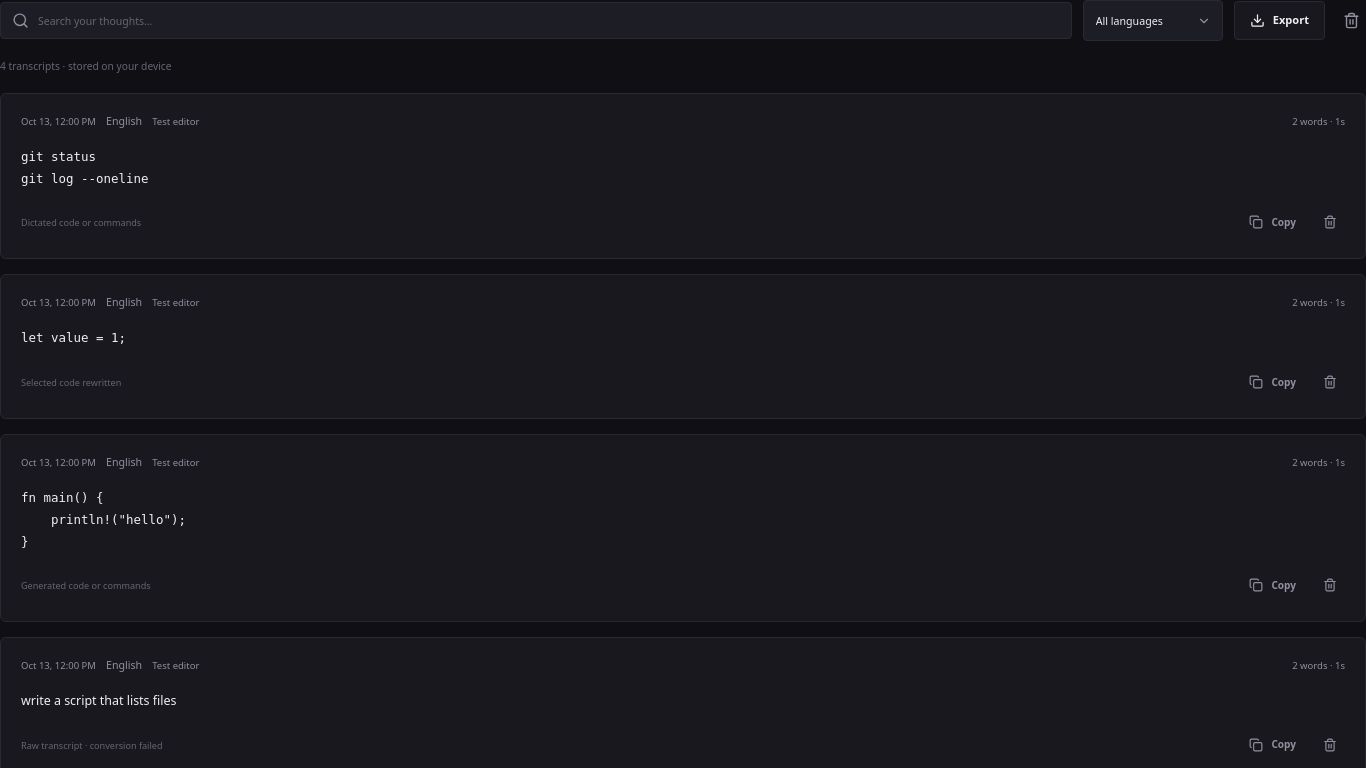
Test: Render state and filtering › labels technical history modes, preserves code whitespace and distinguishes failed raw output
expect the text "Dictated code or commands" is shown: met, box [21,216,141,229]
expect the text "Selected code rewritten" is shown: met, box [21,376,121,389]
Click the button with class "code-output" that starts with "fn main() { println!(\"hello\"); }" at (62, 498), box [21,487,1345,552]
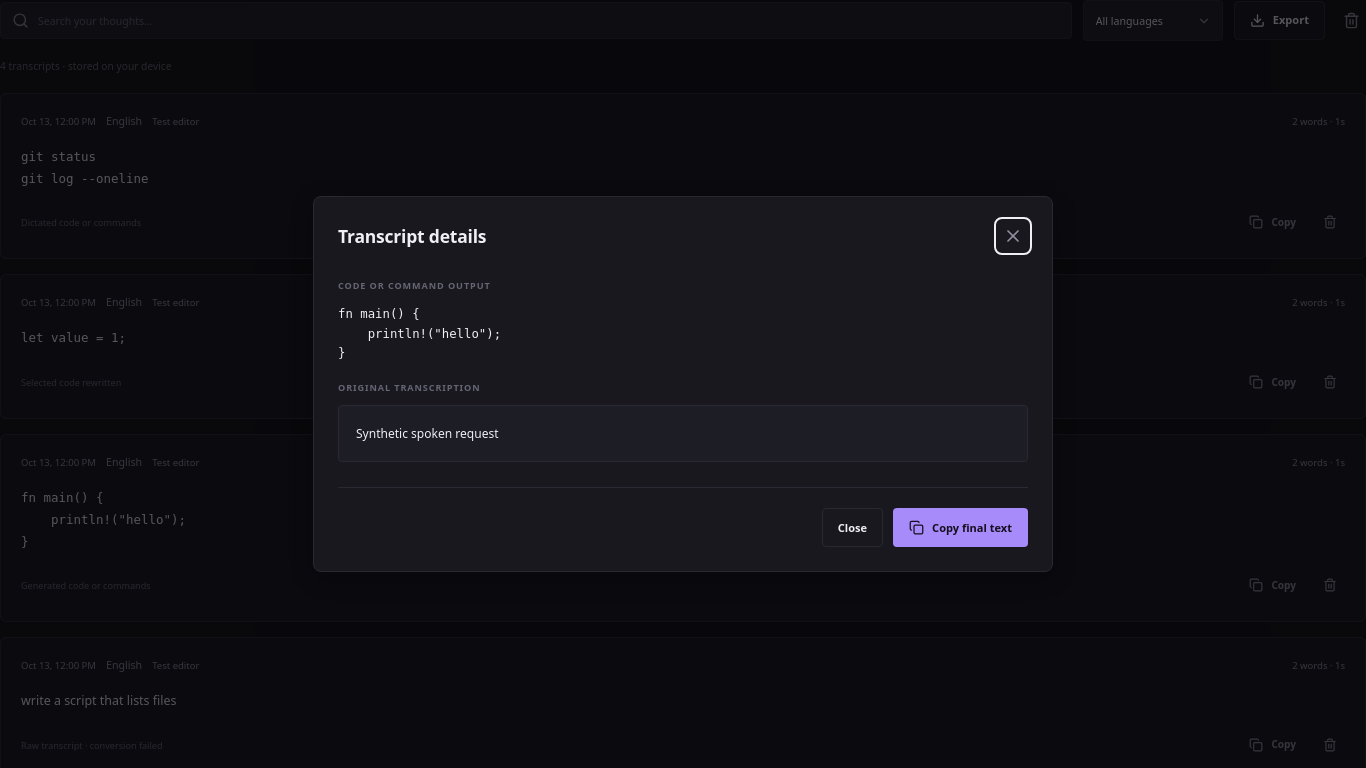
expect the text "CODE OR COMMAND OUTPUT" is shown: met, box [338,279,491,292]
Click the button "Close" at (852, 528), box [822,508,883,547]
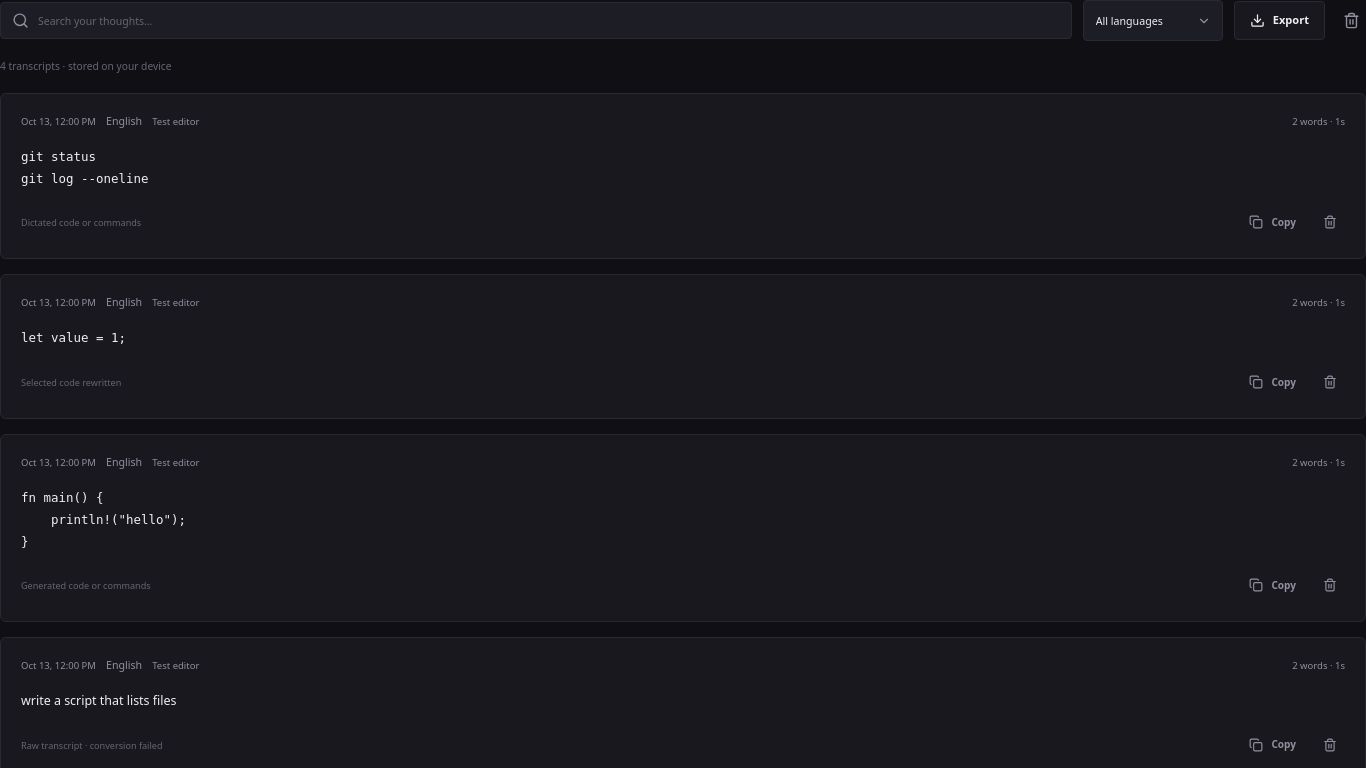
expect the text "Raw transcript · conversion failed" is shown: met, box [21,738,162,752]
Click the button with class "history-text" that starts with "write a script that lists files" at (99, 701), box [21,690,1345,712]
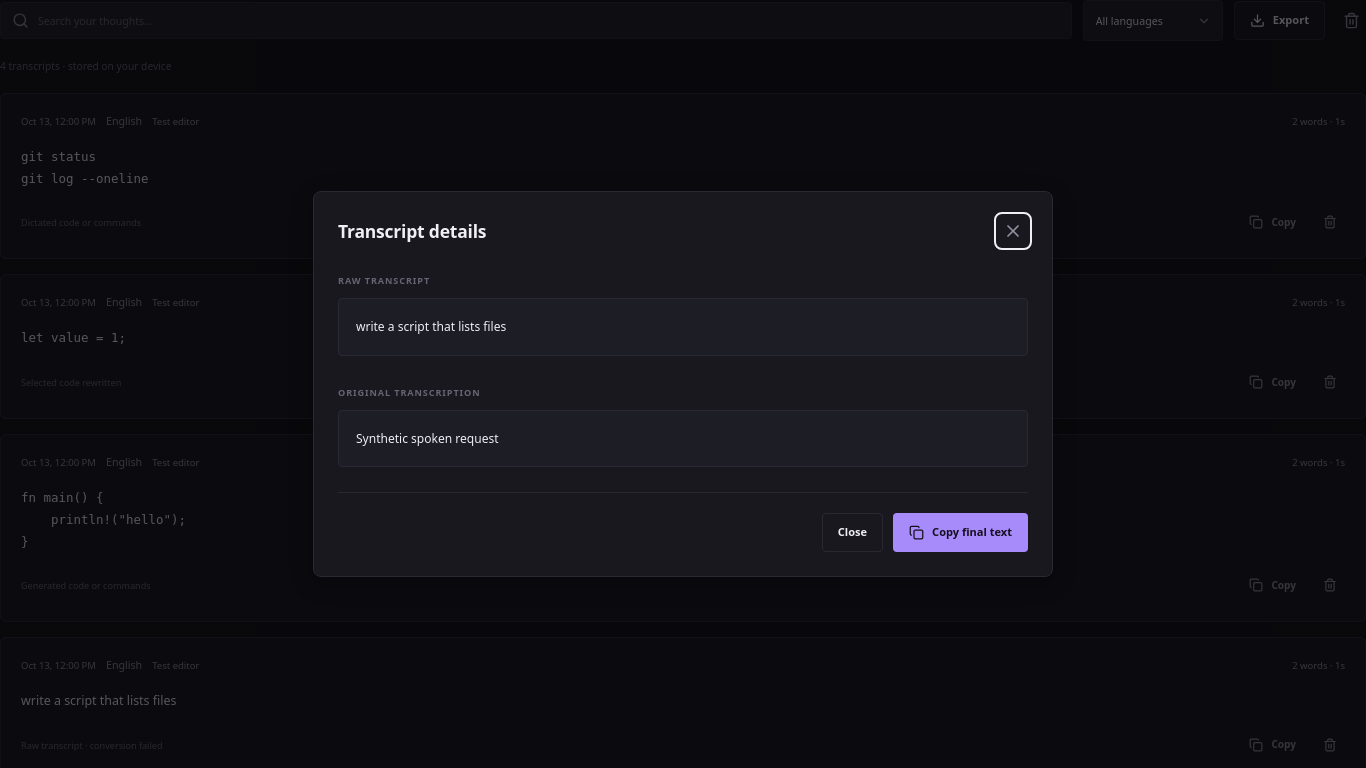
expect the text "RAW TRANSCRIPT" is shown: met, box [338,274,430,287]
